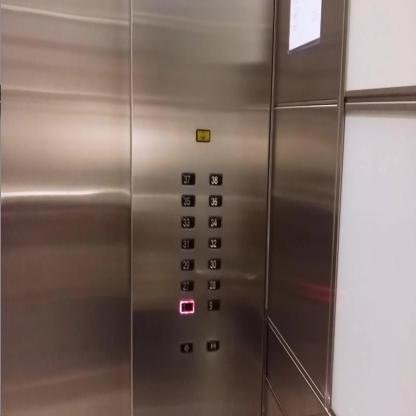1: (179, 299, 195, 315)
27: (180, 279, 194, 291)
28: (207, 277, 220, 290)
29: (180, 257, 194, 271)
30: (207, 257, 221, 270)
31: (180, 237, 194, 249)
32: (208, 236, 221, 249)
33: (180, 216, 195, 228)
34: (208, 214, 222, 229)
35: (181, 193, 195, 207)
36: (208, 194, 223, 208)
37: (181, 172, 196, 186)
38: (209, 171, 223, 187)
9: (207, 298, 220, 311)
alarm: (195, 128, 211, 142)
close: (206, 337, 219, 351)
open: (179, 341, 193, 353)
